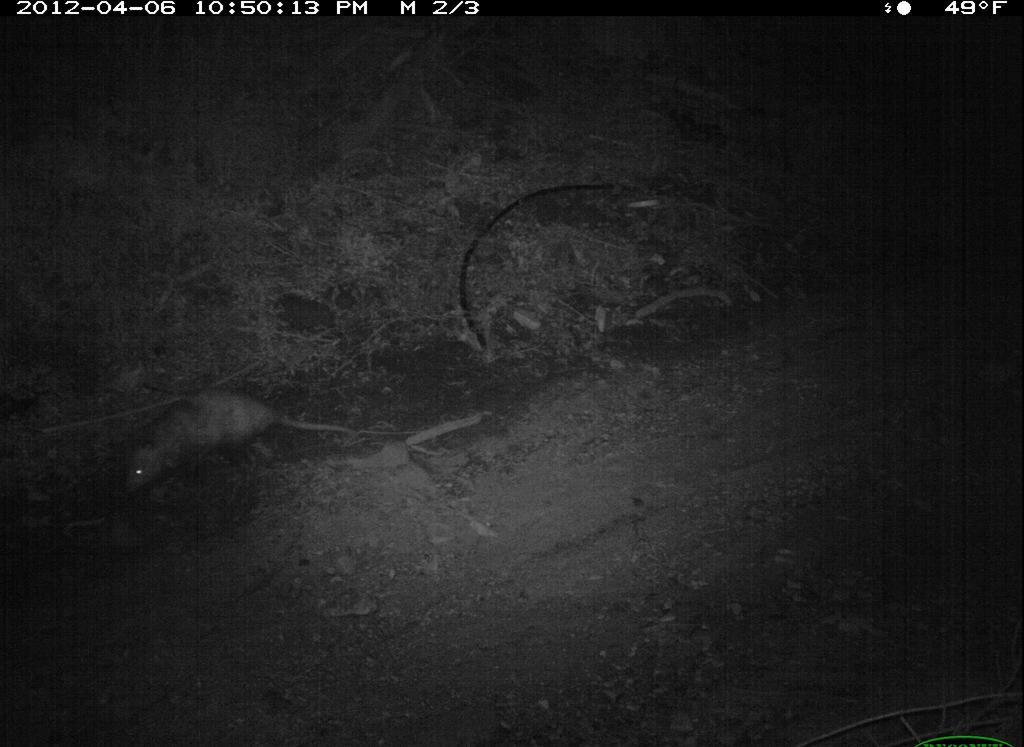opossum: (99, 372, 428, 511)
